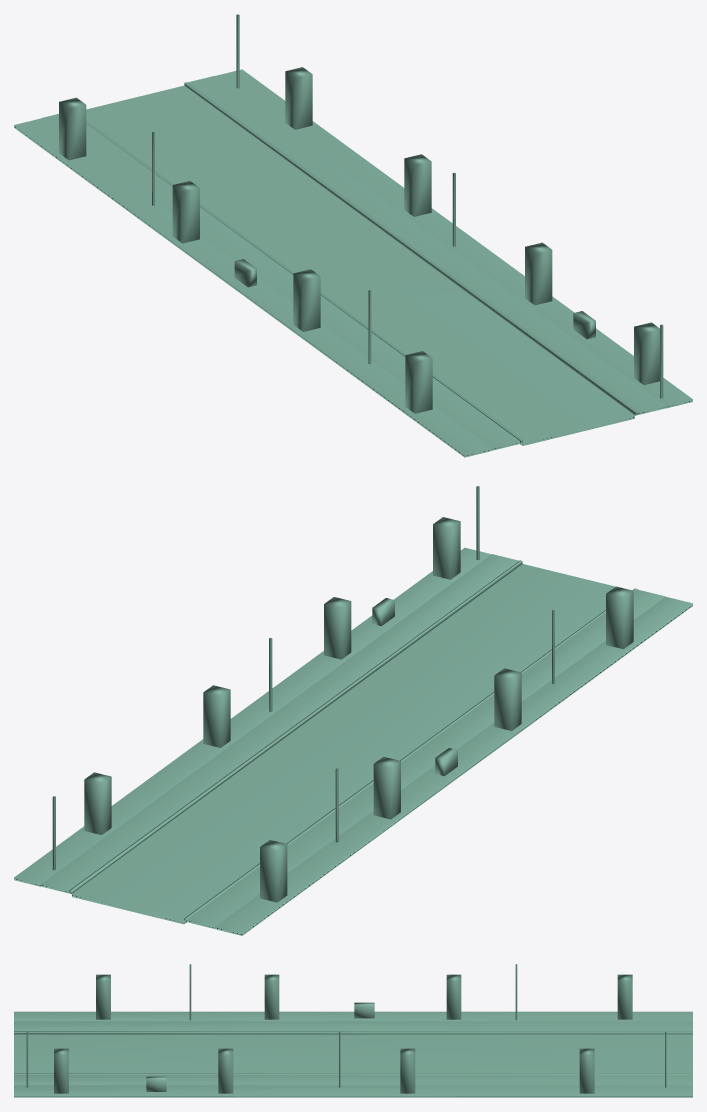
The model's file is plane_avenue_collision.glb.
3 views of the same model, one above another, from view 1: azimuth 30°, elevation 25°; view 2: azimuth 150°, elevation 25°; view 3: azimuth 270°, elevation 25° (orthographic). The views are drawn at different scales.
Parts seen in each view (by area): view 1: Road-colonly, Walkway_1-colonly, Verge_-1-colonly, Verge_1-colonly, Walkway_-1-colonly, Curb_1-colonly, Trunk_1-colonly, Trunk_4-colonly, Trunk_5-colonly, Trunk_6-colonly, Trunk_0-colonly, Trunk_2-colonly (+3 smaller); view 2: Road-colonly, Walkway_1-colonly, Verge_-1-colonly, Verge_1-colonly, Walkway_-1-colonly, Curb_1-colonly, Trunk_6-colonly, Trunk_0-colonly, Trunk_1-colonly, Trunk_2-colonly, Trunk_4-colonly, Trunk_5-colonly (+3 smaller); view 3: Road-colonly, Verge_1-colonly, Walkway_-1-colonly, Verge_-1-colonly, Walkway_1-colonly, Curb_-1-colonly, Curb_1-colonly, Trunk_0-colonly, Trunk_1-colonly, Trunk_3-colonly, Trunk_5-colonly, Trunk_2-colonly (+5 smaller).
Boxes of the visible parts, x1=… form: Road-colonly: x1=86, y1=85, x2=634, y2=445; Walkway_1-colonly: x1=187, y1=76, x2=665, y2=414; Verge_-1-colonly: x1=14, y1=118, x2=491, y2=457; Verge_1-colonly: x1=216, y1=69, x2=692, y2=408; Walkway_-1-colonly: x1=41, y1=114, x2=519, y2=450; Curb_1-colonly: x1=184, y1=82, x2=637, y2=415; Trunk_1-colonly: x1=285, y1=67, x2=312, y2=129; Trunk_4-colonly: x1=293, y1=269, x2=320, y2=331; Trunk_5-colonly: x1=525, y1=242, x2=552, y2=305; Trunk_6-colonly: x1=405, y1=351, x2=432, y2=413; Trunk_0-colonly: x1=59, y1=97, x2=86, y2=160; Trunk_2-colonly: x1=172, y1=181, x2=199, y2=243; Road-colonly: x1=72, y1=564, x2=615, y2=924; Walkway_1-colonly: x1=41, y1=554, x2=519, y2=893; Verge_-1-colonly: x1=215, y1=596, x2=692, y2=935; Verge_1-colonly: x1=14, y1=547, x2=491, y2=886; Walkway_-1-colonly: x1=187, y1=589, x2=665, y2=928; Curb_1-colonly: x1=69, y1=560, x2=522, y2=893; Trunk_6-colonly: x1=606, y1=586, x2=633, y2=649; Trunk_0-colonly: x1=260, y1=840, x2=287, y2=902; Trunk_1-colonly: x1=84, y1=772, x2=111, y2=834; Trunk_2-colonly: x1=373, y1=756, x2=400, y2=819; Trunk_4-colonly: x1=494, y1=668, x2=521, y2=730; Trunk_5-colonly: x1=324, y1=597, x2=351, y2=659; Road-colonly: x1=14, y1=1034, x2=692, y2=1073; Verge_1-colonly: x1=14, y1=1085, x2=692, y2=1097; Walkway_-1-colonly: x1=14, y1=1021, x2=692, y2=1031; Verge_-1-colonly: x1=14, y1=1011, x2=692, y2=1021; Walkway_1-colonly: x1=14, y1=1075, x2=692, y2=1085; Curb_-1-colonly: x1=14, y1=1031, x2=692, y2=1034; Curb_1-colonly: x1=14, y1=1073, x2=692, y2=1074; Trunk_0-colonly: x1=617, y1=974, x2=632, y2=1019; Trunk_1-colonly: x1=579, y1=1048, x2=594, y2=1093; Trunk_3-colonly: x1=400, y1=1048, x2=415, y2=1093; Trunk_5-colonly: x1=218, y1=1048, x2=233, y2=1093; Trunk_2-colonly: x1=446, y1=974, x2=461, y2=1019.
Bounding box in the file's own units: 14.62 × 4.79 × 50.
